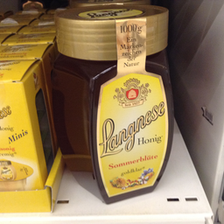honey: (47, 2, 180, 202)
